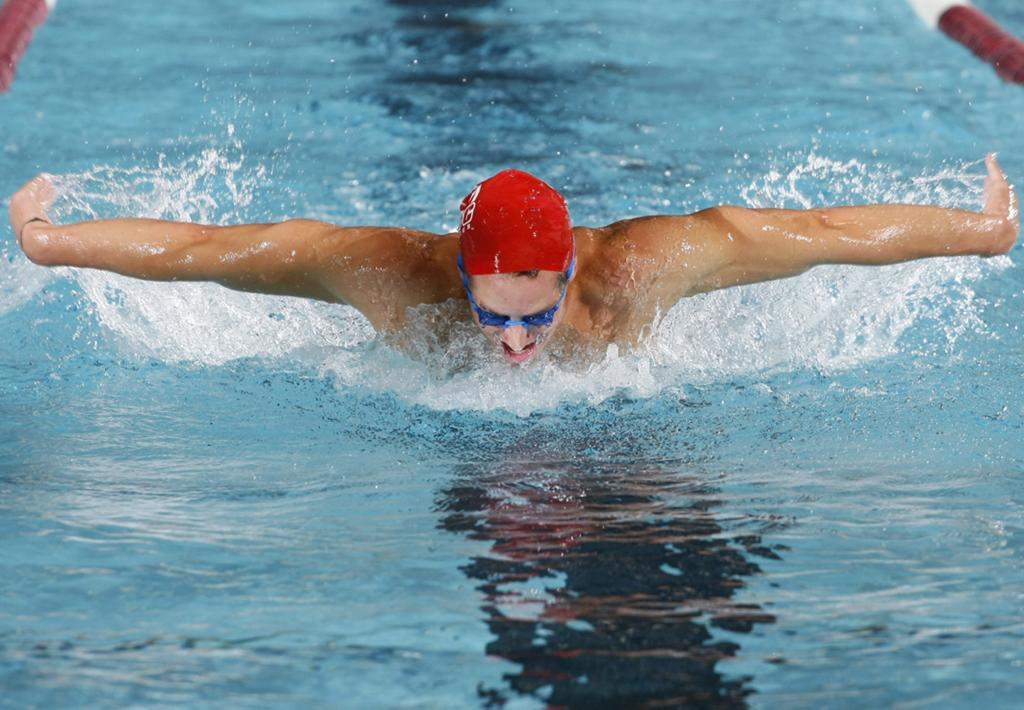face: (474, 270, 558, 358)
